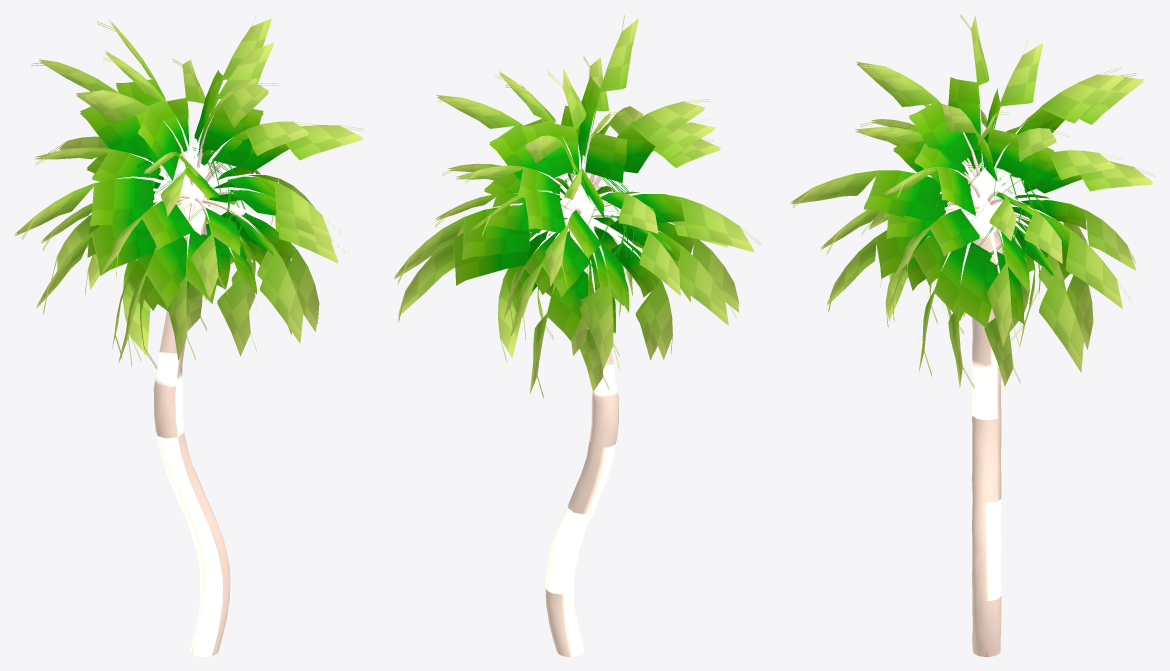
Rendered from desktop.glb.
3 views of the same model, side by side, from view 1: azimuth 30°, elevation 25°; view 2: azimuth 150°, elevation 25°; view 3: azimuth 270°, elevation 25° (orthographic). The views are drawn at different scales.
Visible parts, largest first — view 1: SM-Palm-01; view 2: SM-Palm-01; view 3: SM-Palm-01.
Part boxes in pixels (x1,y1,x2,y2): SM-Palm-01: (15,17,364,656); SM-Palm-01: (394,15,760,656); SM-Palm-01: (790,14,1154,656).
Bounding box in the file's own units: 3.34 × 6.07 × 3.41.
Materials: 2 (2 with a texture image).
